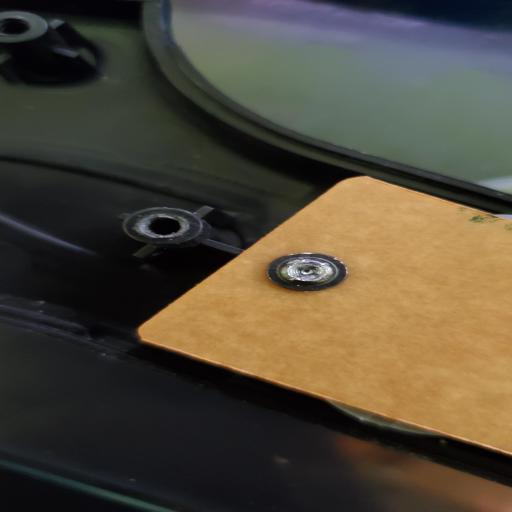Phillips: (272, 254, 351, 291)
